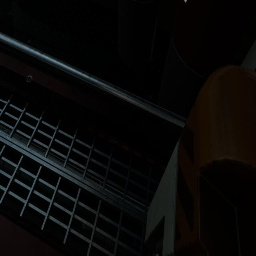0: (240, 39, 256, 71)
NitrogenTank ,: (157, 0, 256, 140), (118, 0, 160, 72)
